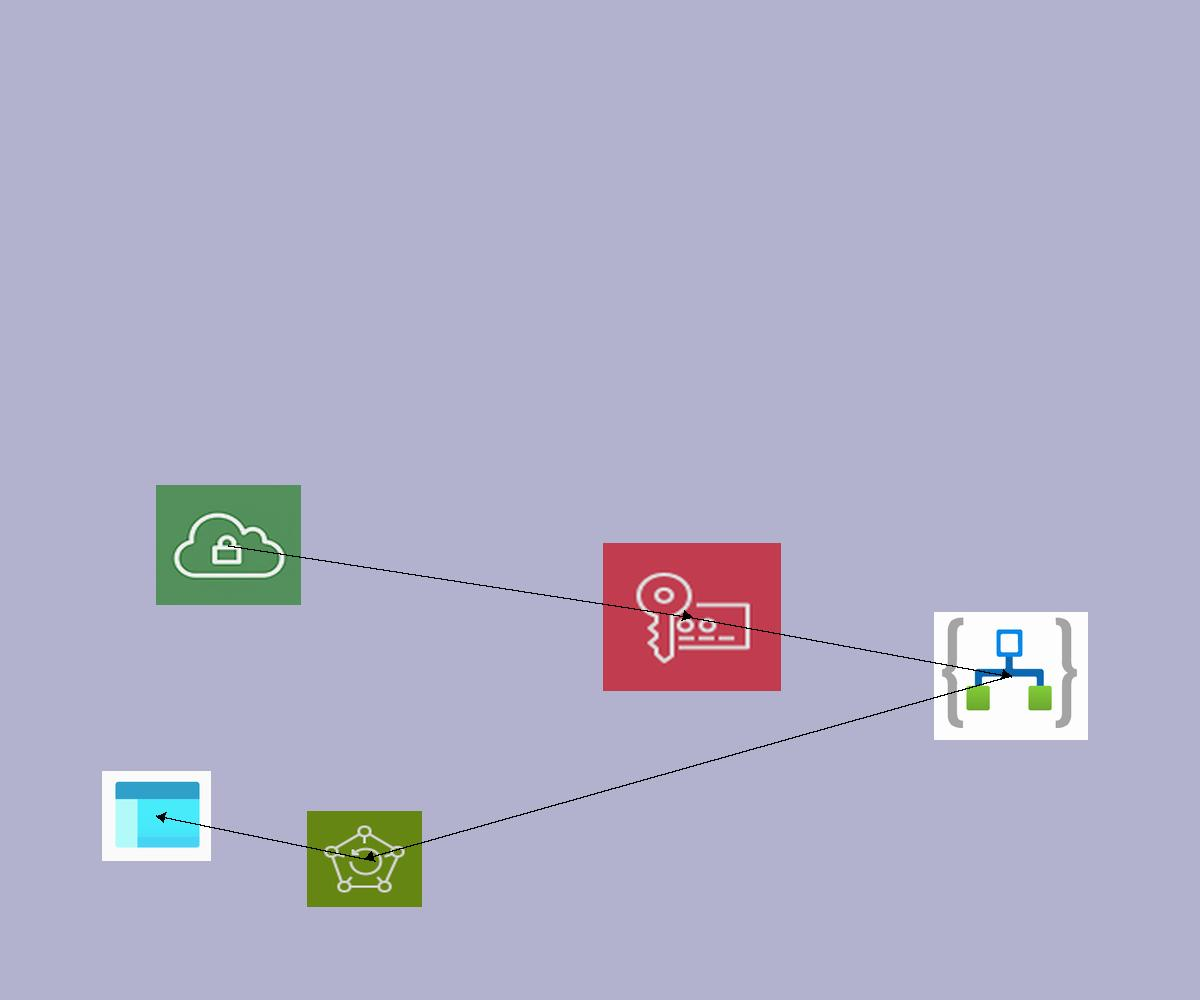AWS-Backup: (307, 811, 422, 907)
AWS-Key-Management-Service: (603, 543, 781, 691)
AWS-Private_vpc: (156, 485, 301, 605)
Azure_integration-204-Logic-Apps: (934, 612, 1088, 740)
Azure_management-portal: (102, 771, 211, 861)
